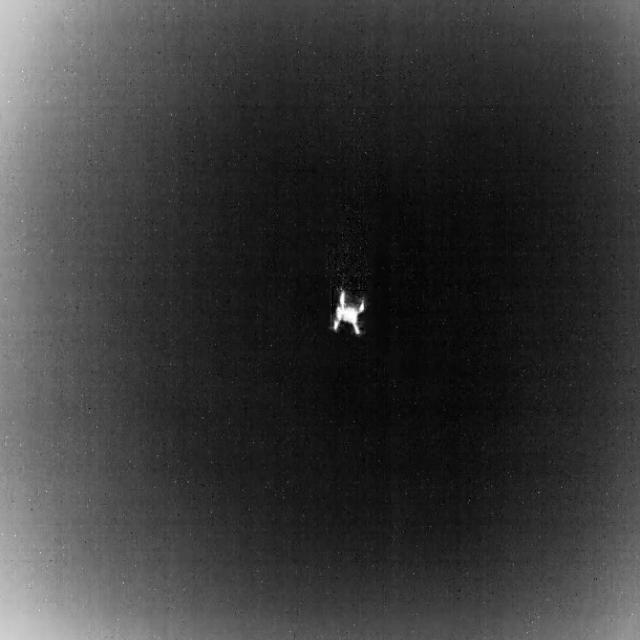drone: (332, 290, 367, 338)
